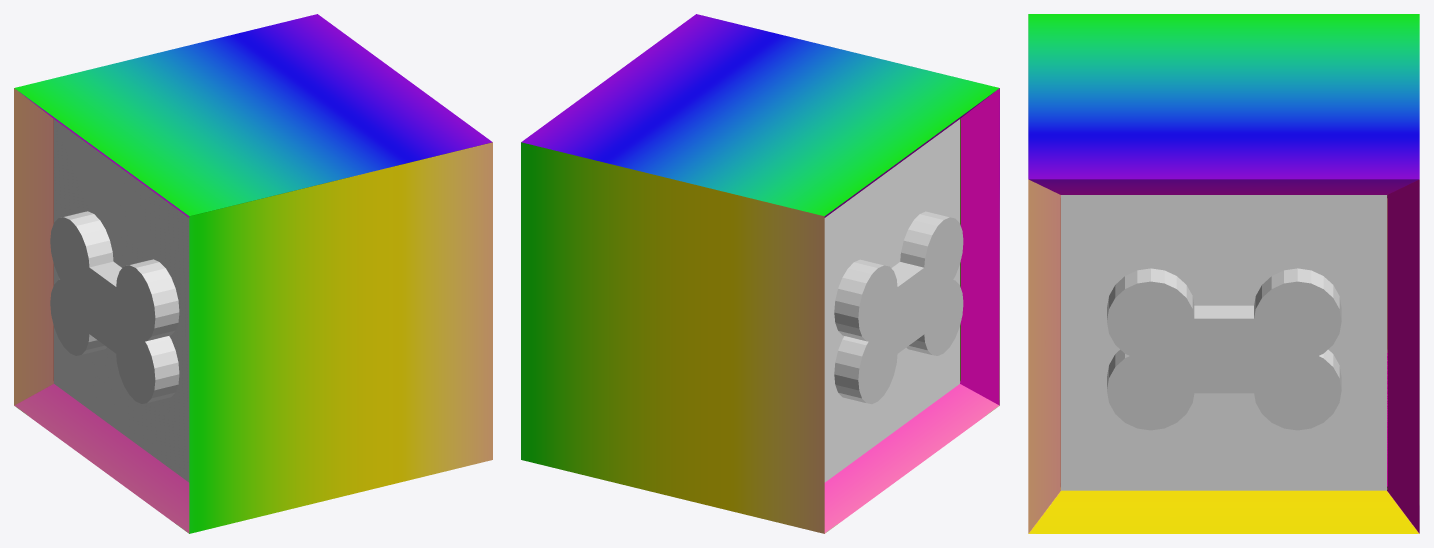
3 renders of one model, left to right at view 1: azimuth 30°, elevation 25°; view 2: azimuth 150°, elevation 25°; view 3: azimuth 270°, elevation 25°, orthographic. The views are drawn at different scales.
Visible parts, largest first — view 1: Cube, powerful_inari-fyyran; view 2: Cube, powerful_inari-fyyran; view 3: Cube, powerful_inari-fyyran.001.
Part boxes in pixels (x1,y1,x2,y2): Cube: (14, 14, 492, 533); powerful_inari-fyyran: (50, 211, 179, 403); Cube: (521, 14, 999, 533); powerful_inari-fyyran: (834, 211, 963, 404); Cube: (1028, 14, 1419, 533); powerful_inari-fyyran.001: (1107, 268, 1341, 430).
Size of the model in its own units: 1200 by 1200 by 1200.
